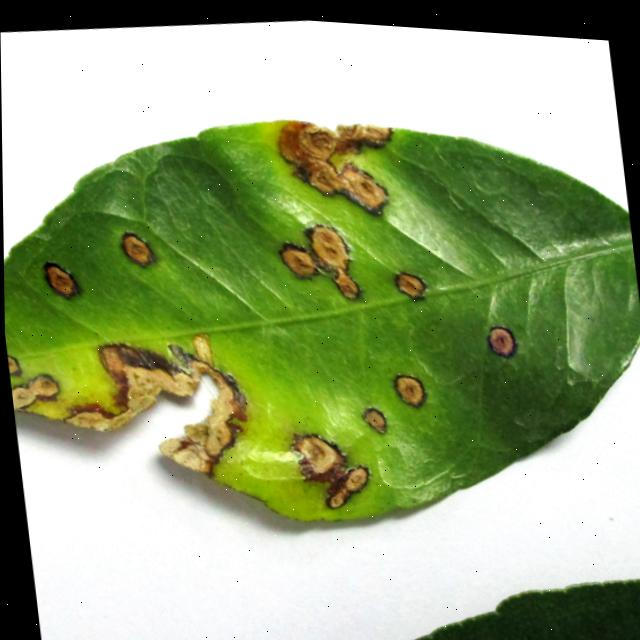antracnose: (4, 121, 640, 520), (66, 334, 245, 472), (278, 121, 391, 214), (292, 434, 369, 508), (307, 225, 358, 298), (44, 262, 80, 298), (280, 243, 317, 277), (122, 232, 155, 266), (394, 375, 426, 406), (394, 271, 427, 300), (487, 326, 517, 357), (28, 374, 59, 399), (363, 407, 386, 433), (11, 386, 36, 409), (7, 354, 21, 375)
